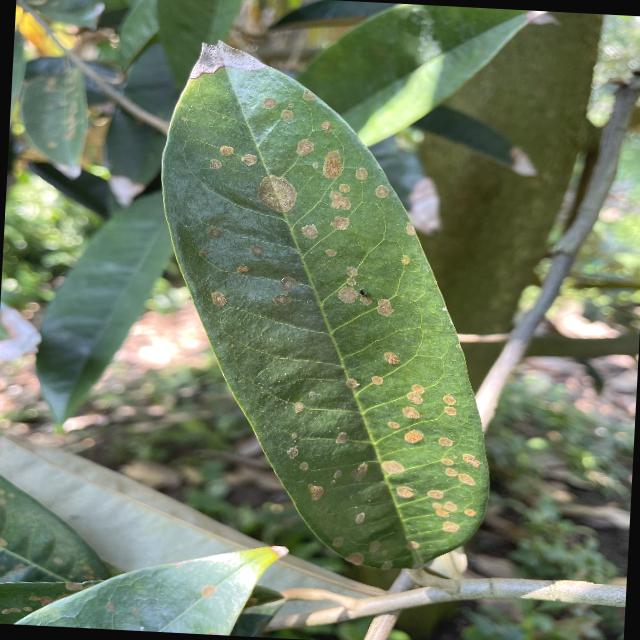Algal Leaf Spot: (136, 32, 523, 584)
